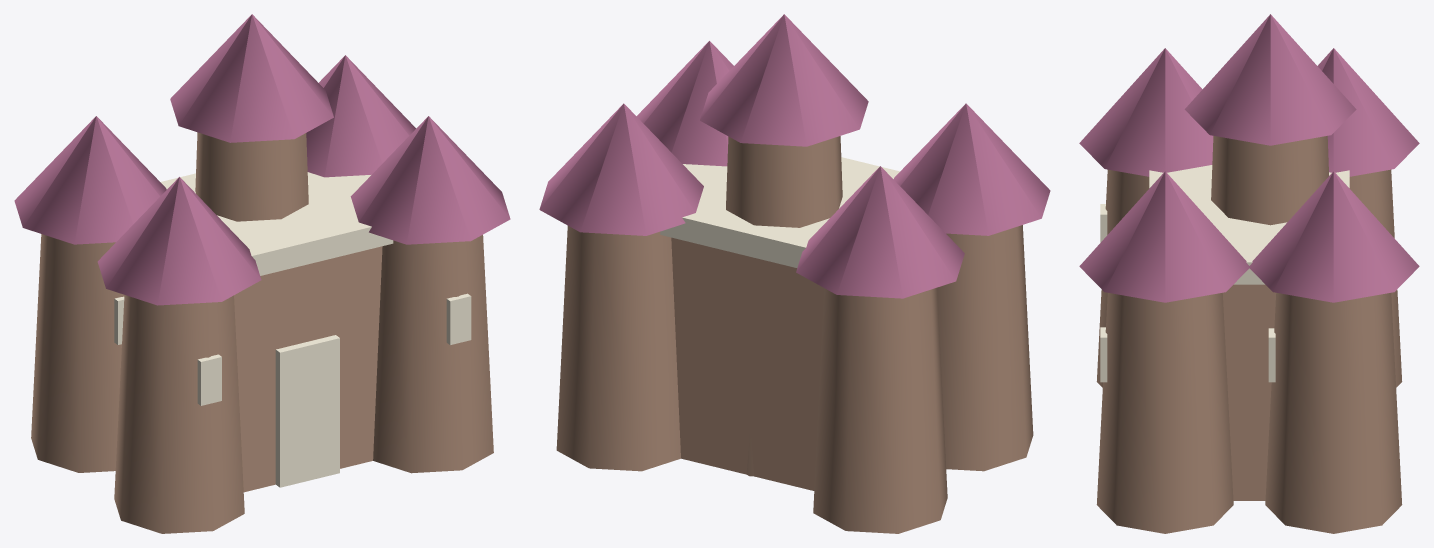
The model's file is st_candy_castle.glb.
3 views of the same model, side by side, from view 1: azimuth 30°, elevation 25°; view 2: azimuth 150°, elevation 25°; view 3: azimuth 270°, elevation 25° (orthographic). The views are drawn at different scales.
Visible parts, largest first — view 1: Gingerbread_Frosted_Castle; view 2: Gingerbread_Frosted_Castle; view 3: Gingerbread_Frosted_Castle.
Part boxes in pixels (<box>): Gingerbread_Frosted_Castle: <box>14,14,510,533</box>; Gingerbread_Frosted_Castle: <box>539,14,1050,533</box>; Gingerbread_Frosted_Castle: <box>1079,14,1419,533</box>.
Bounding box in the file's own units: 2.64 × 2.7 × 1.94.
